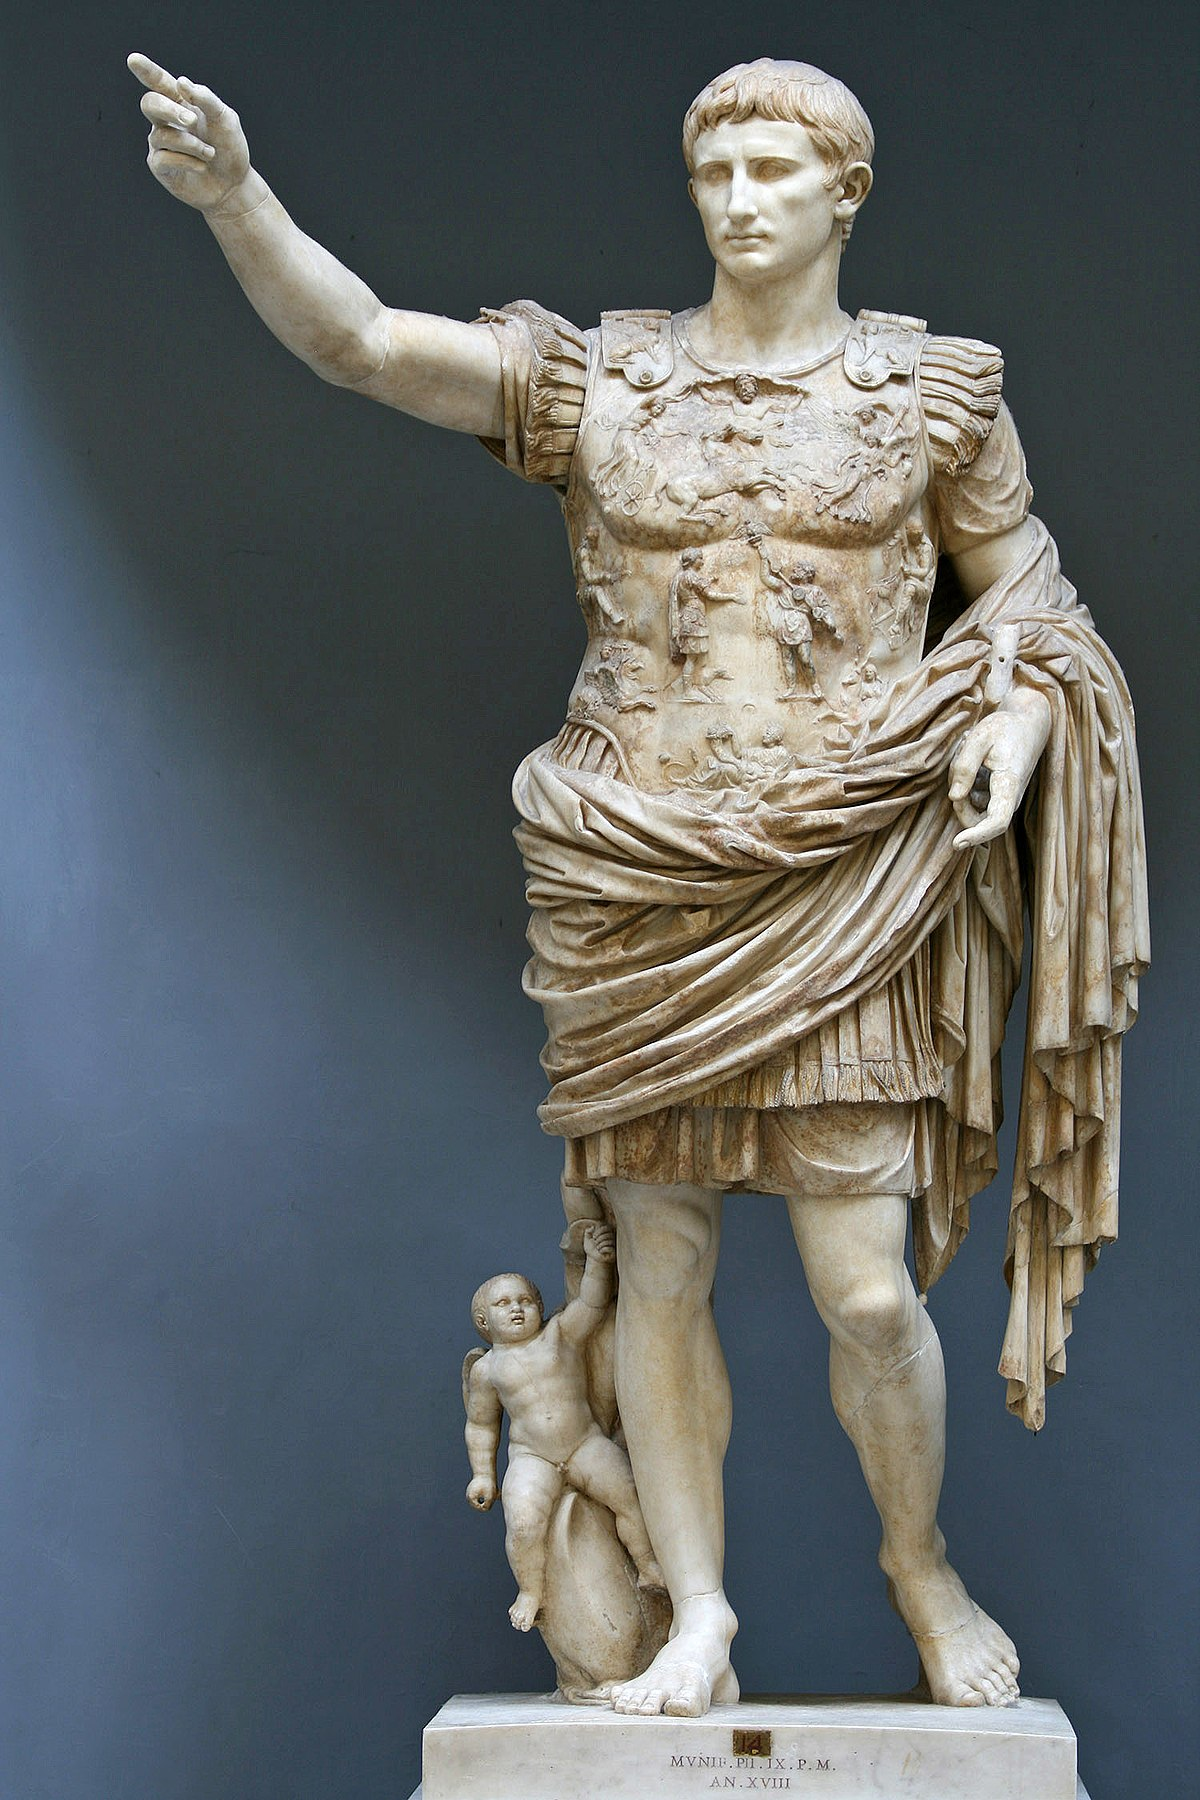person-like: (107, 40, 1166, 1728), (445, 1220, 666, 1638)
